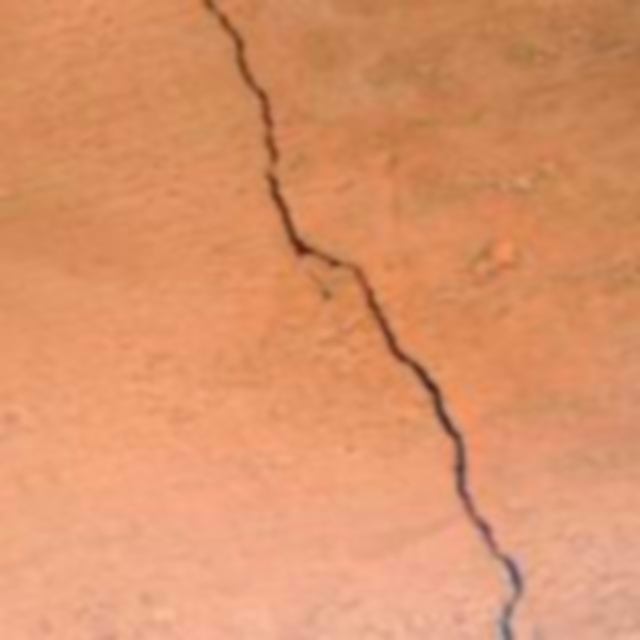SurfaceCrack: (162, 0, 546, 640)
